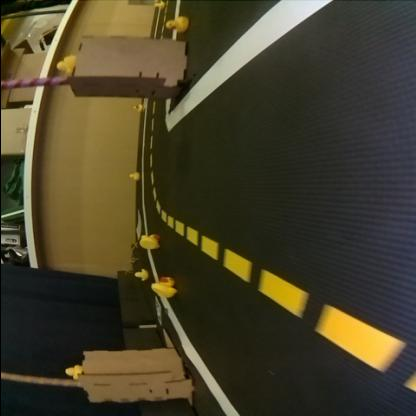Duckie: (150, 278, 174, 298), (54, 56, 74, 74), (164, 18, 186, 32), (138, 235, 156, 250), (66, 366, 80, 380), (132, 270, 146, 280), (127, 173, 138, 181), (132, 105, 142, 113), (152, 4, 162, 10)
QR code: (154, 296, 162, 324)
